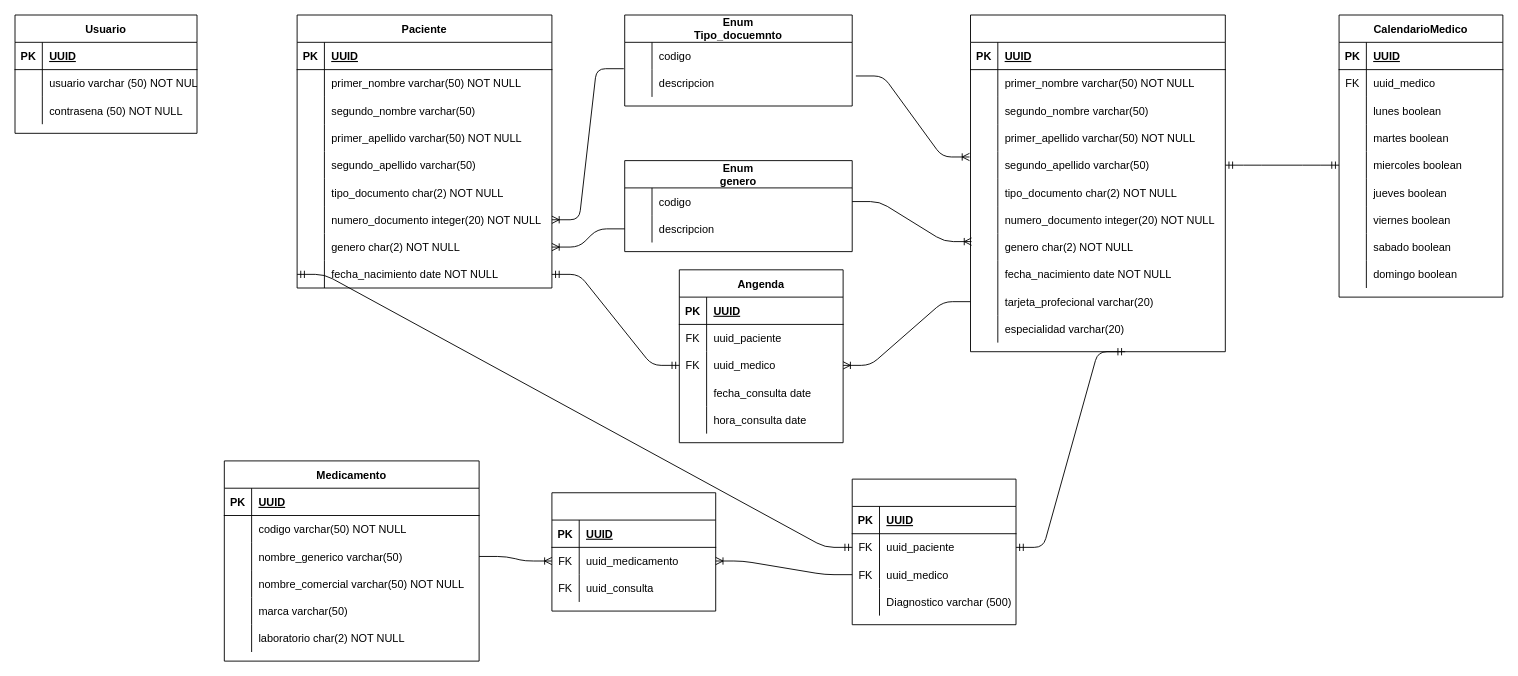
The diagram is 1518 pixels wide and 676 high, and some of its shapes have lost their labels. Here are the shapes that lost their labels. From the top down, the box of each, then its label:
(970, 14, 1225, 352): Medico
(551, 492, 716, 611): ConsultaMedicamento
(851, 478, 1016, 625): Consulta
